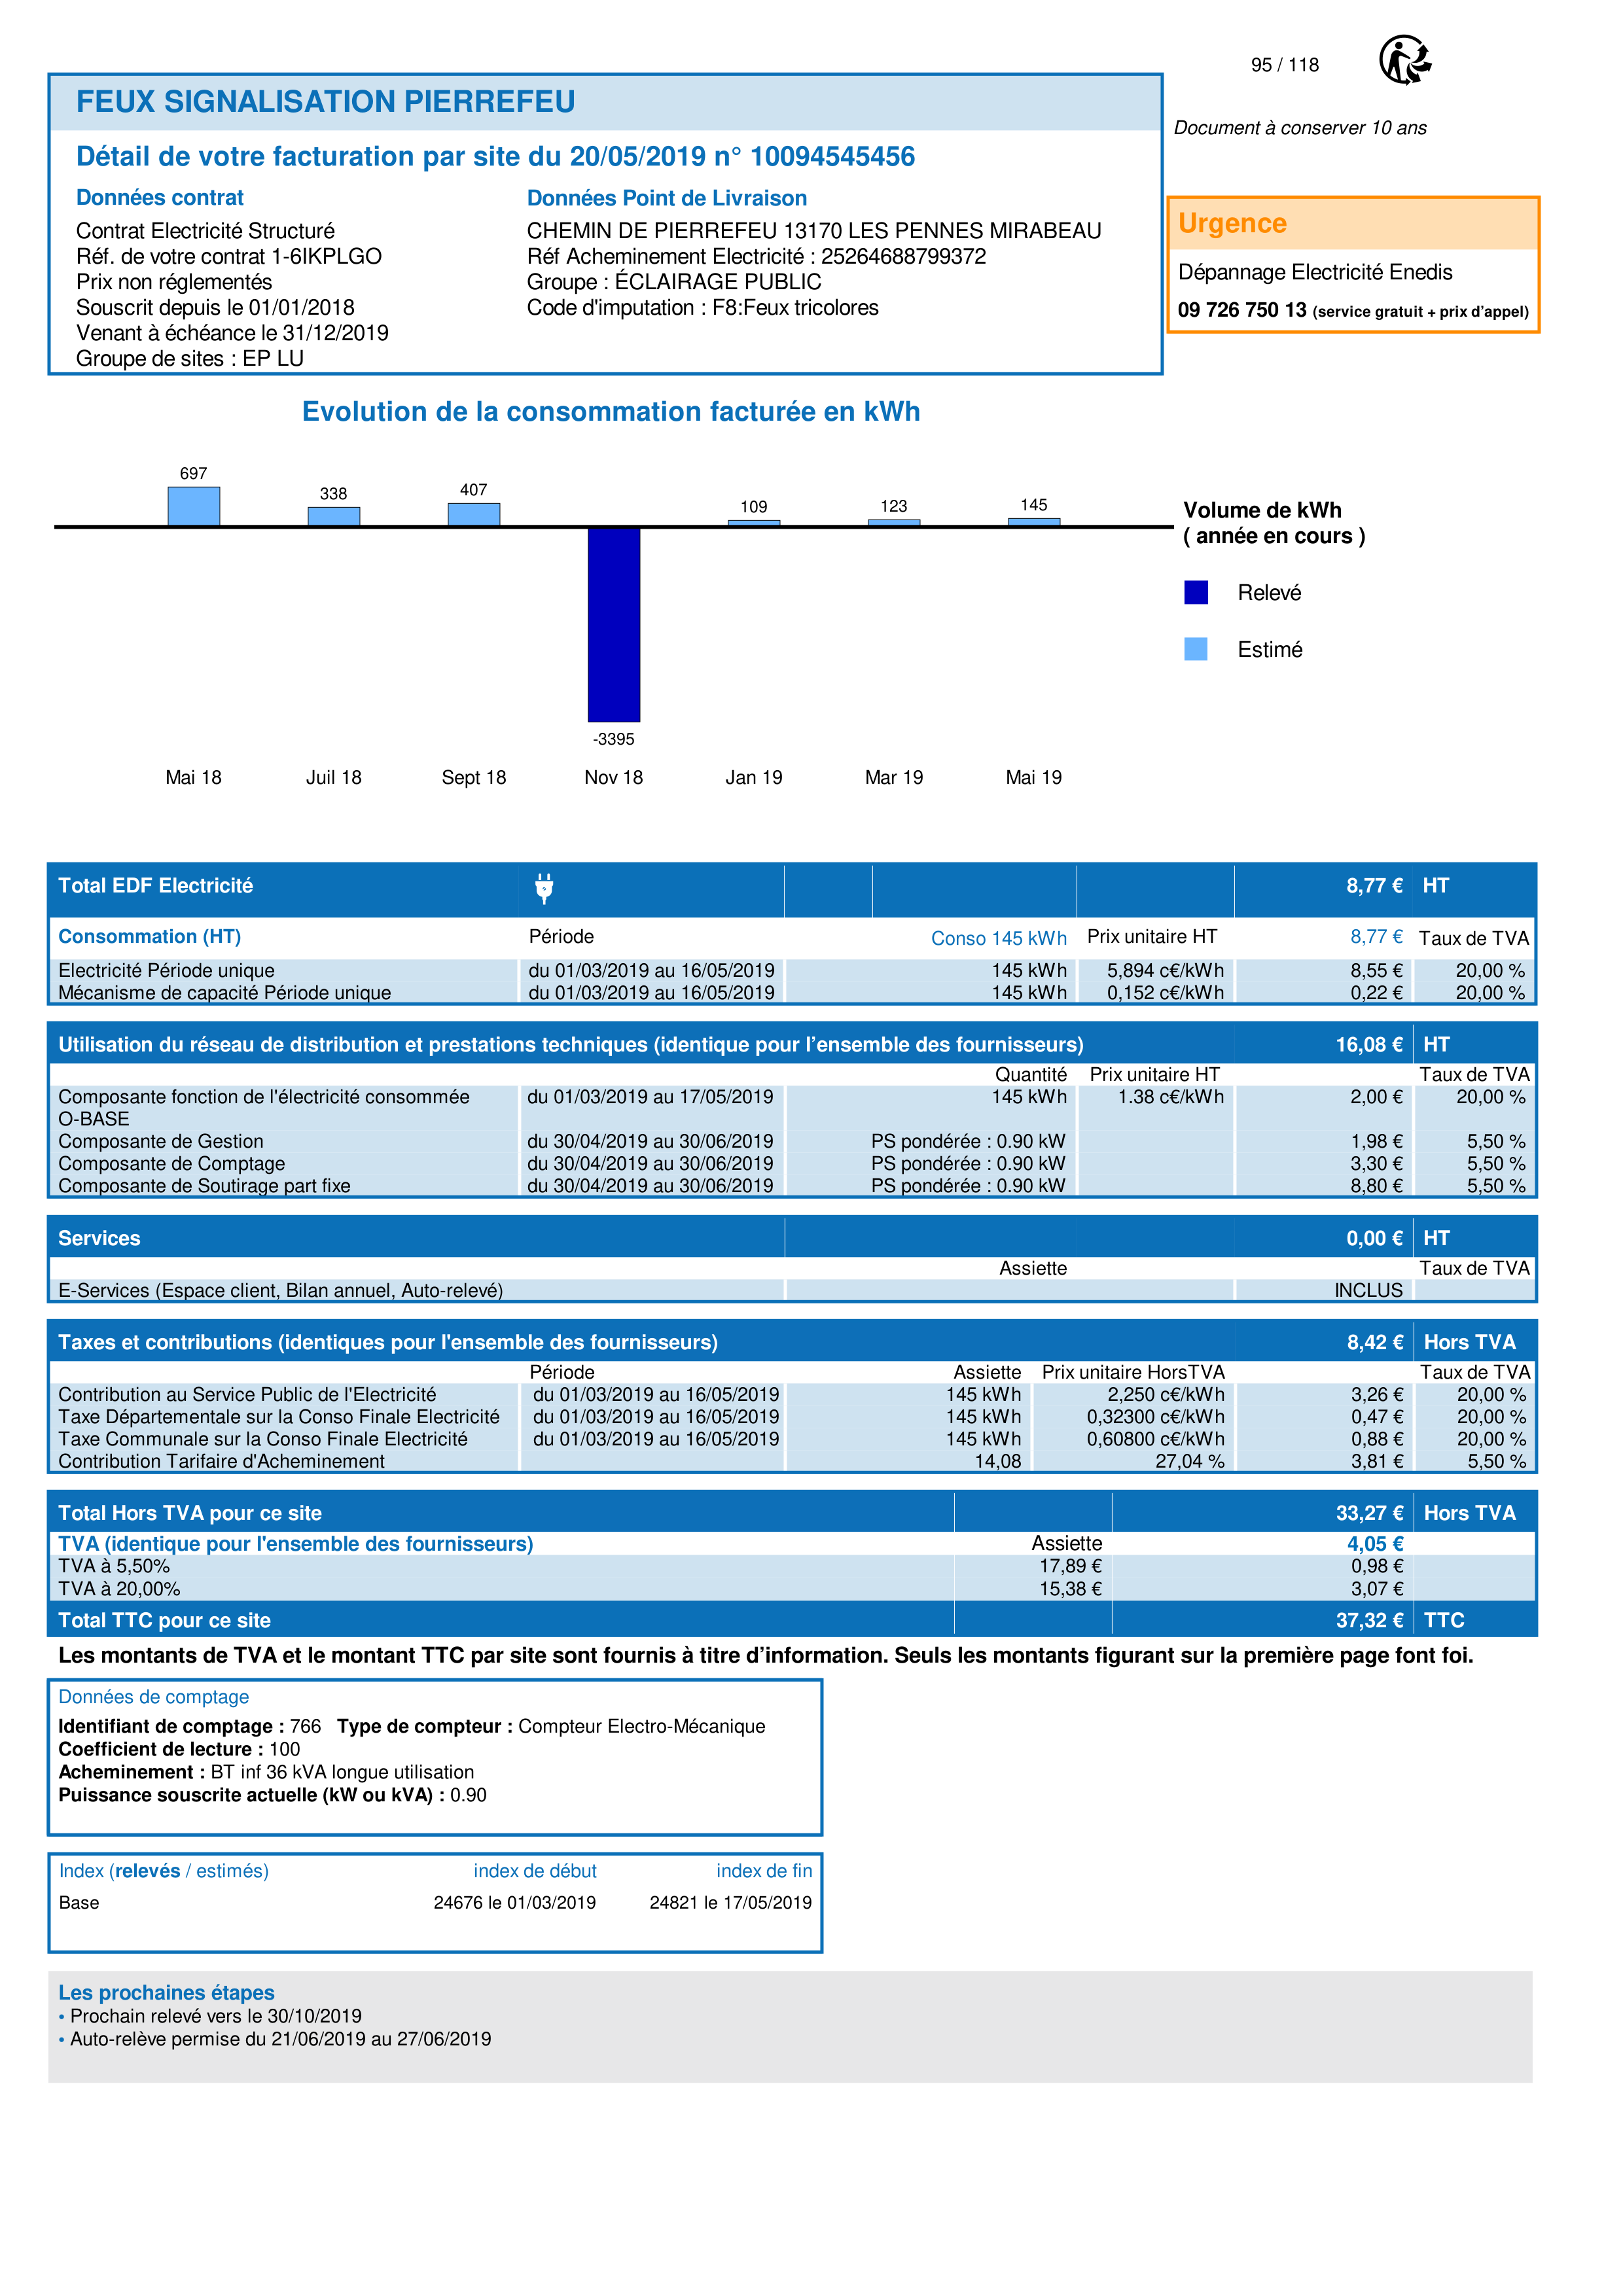area: (50, 1854, 823, 1954)
type_indicator: (48, 1856, 282, 1888)
